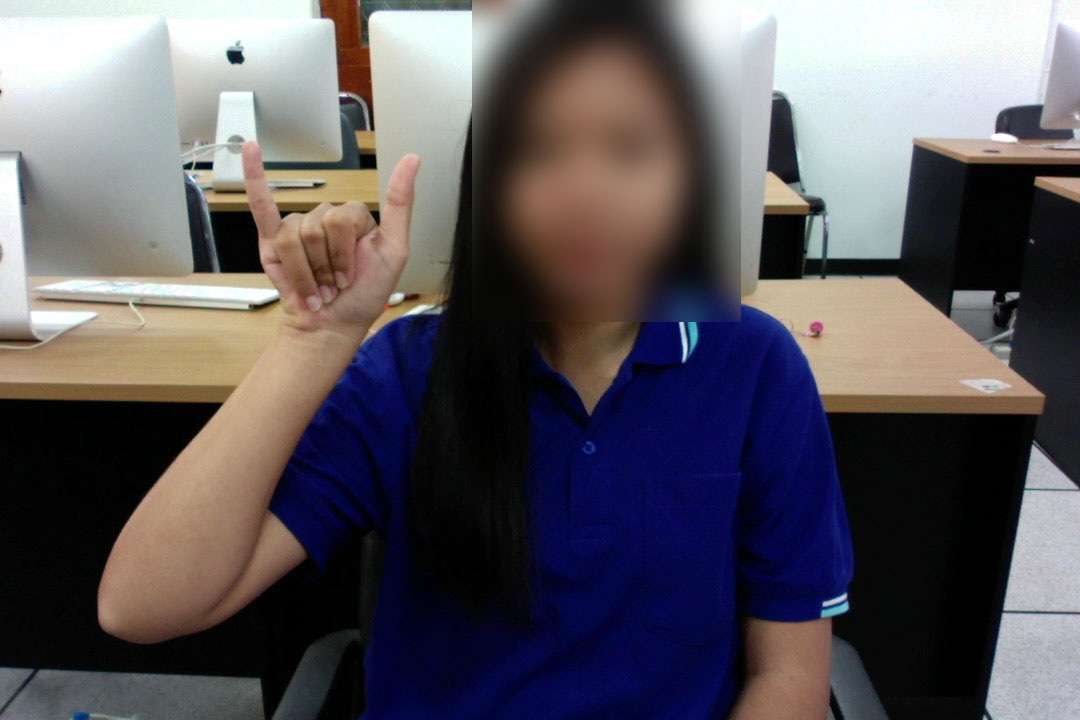yor: (235, 130, 427, 360)
